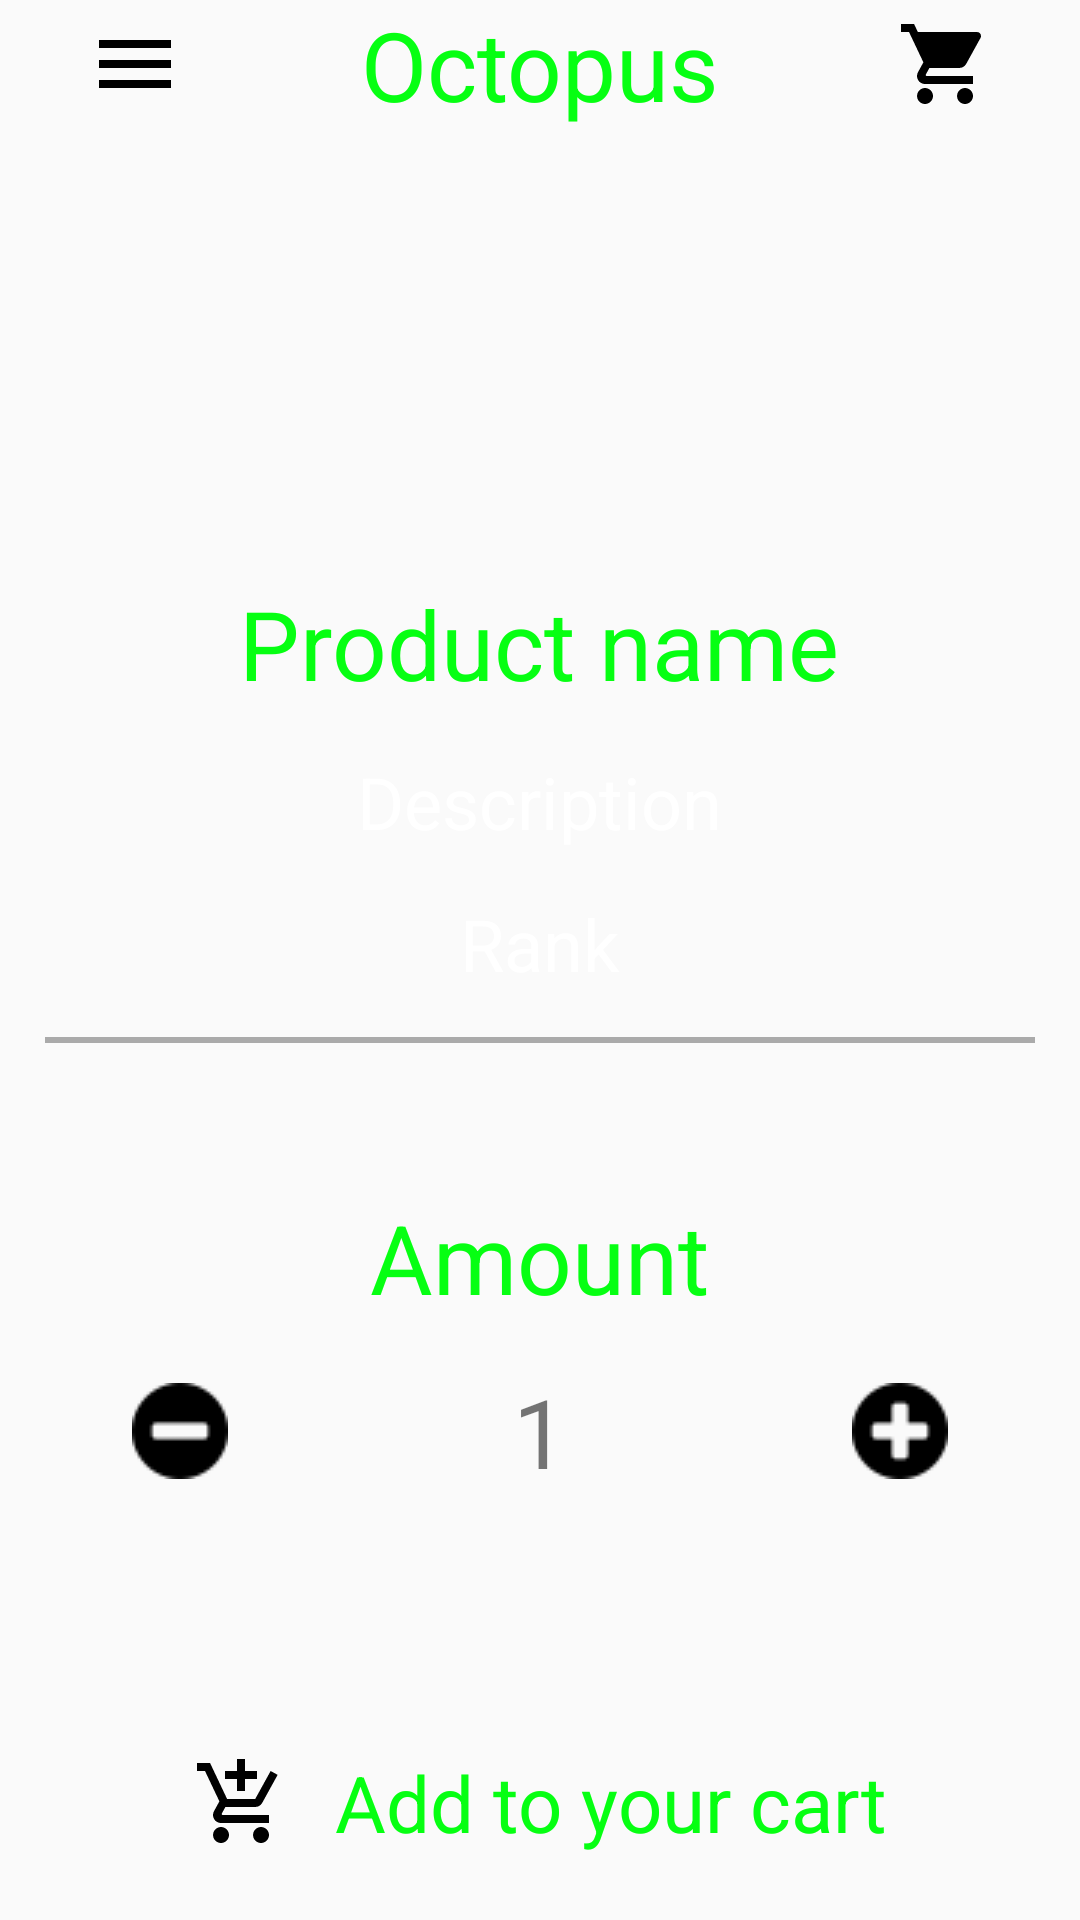

Icon click points for this 1080×1920 phone screenshot, format (x=x, y=y):
shopping cart: (x=941, y=64)
side nav bar: (x=135, y=64)
